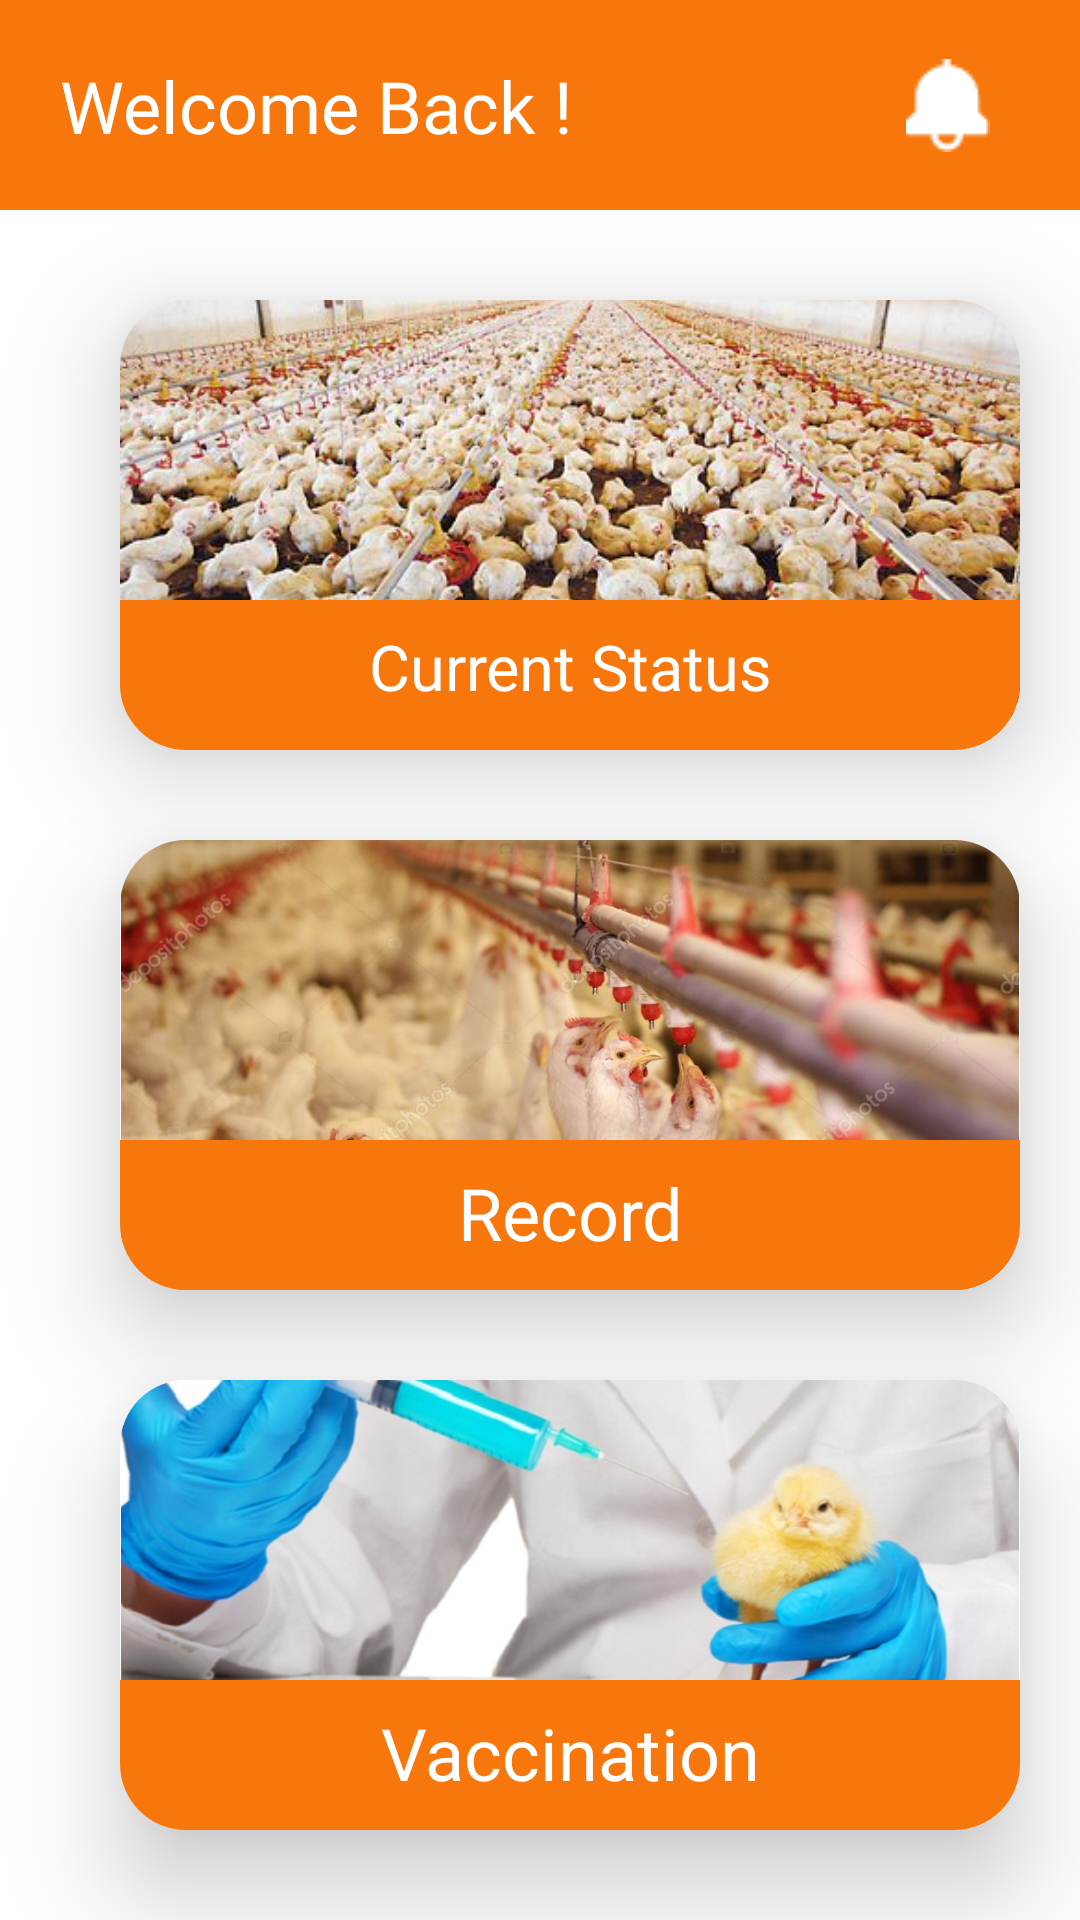

Screen size 1080px×1920px. Icon name, then its center in pixels as point (x, y):
notificationicon: point (948, 105)
